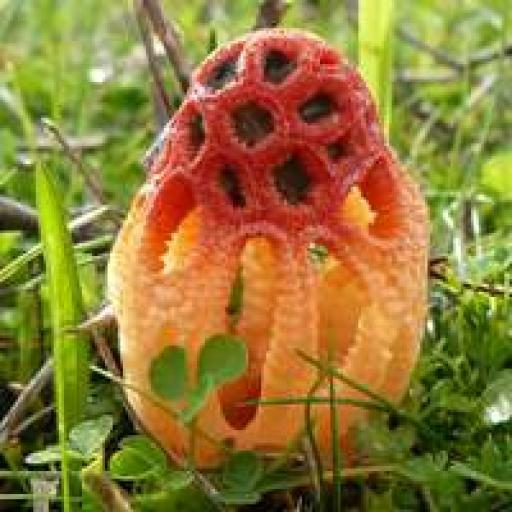mushroom: (100, 30, 432, 473)
